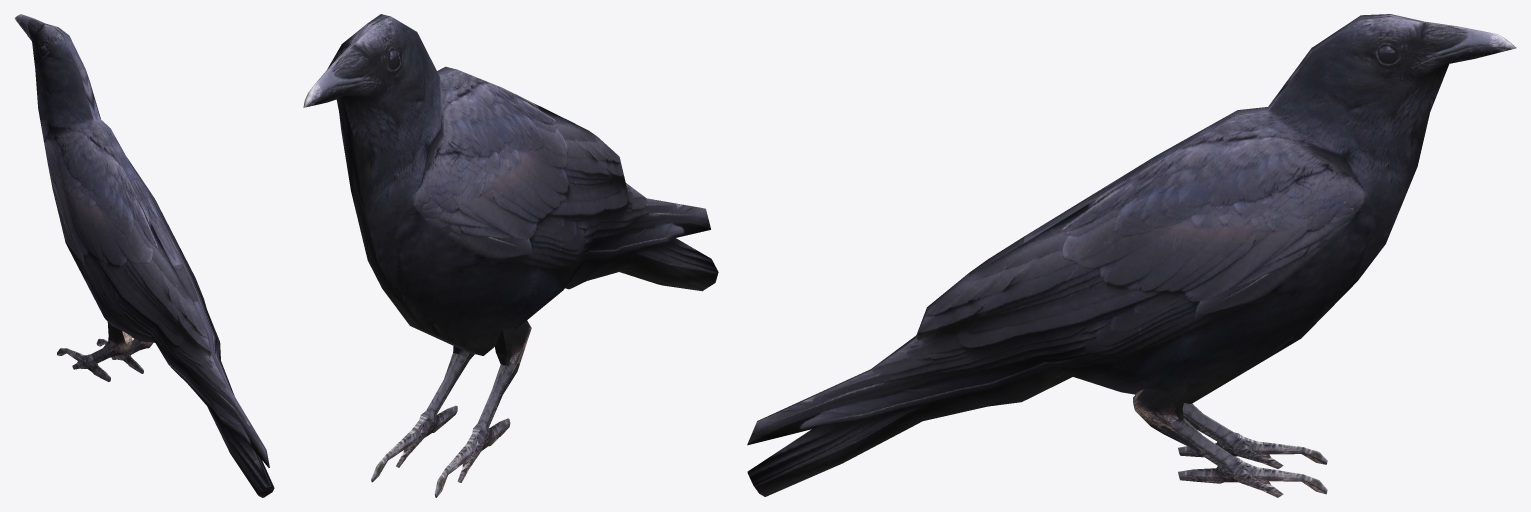
The model's file is stupid crow.fbx.
The picture shows the model from 3 angles, left to right: view 1: azimuth 30°, elevation 25°; view 2: azimuth 150°, elevation 25°; view 3: azimuth 270°, elevation 25°; orthographic projection. The views are drawn at different scales.
Visible parts, largest first — view 1: Cube; view 2: Cube; view 3: Cube.
Boxes of the visible parts, <box> form: Cube: <box>14,14,274,497</box>; Cube: <box>303,14,718,497</box>; Cube: <box>747,14,1516,497</box>.
Bounding box in the file's own units: 71.89 × 300 × 435.
1 material, 1 textured.
